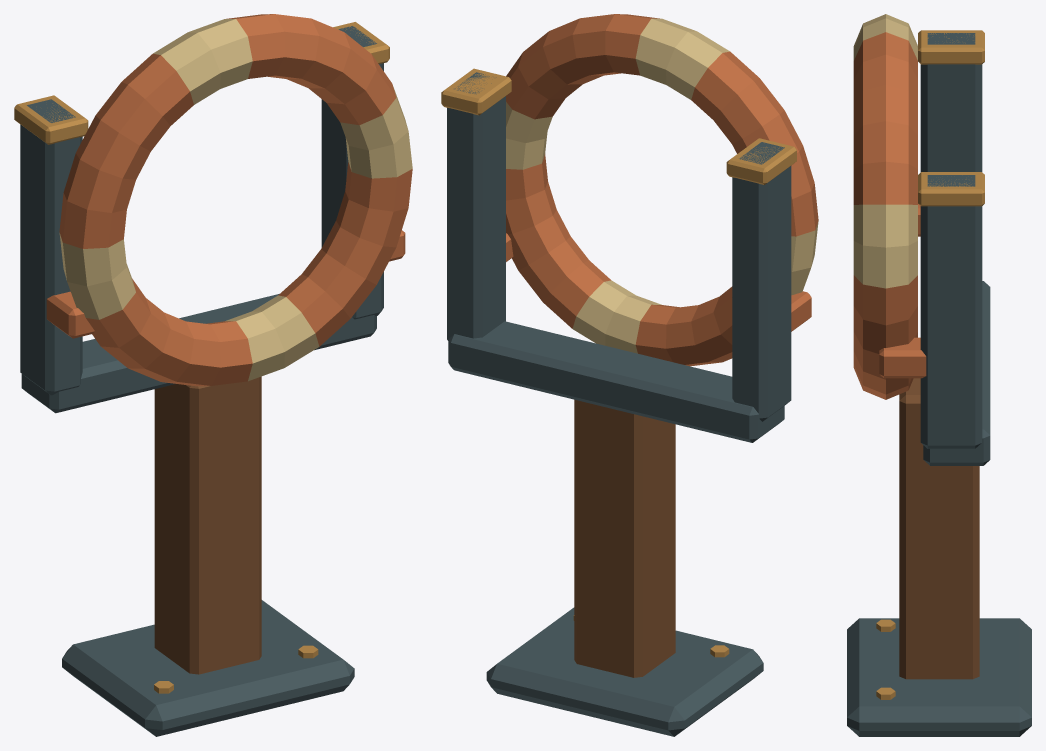
The model's file is w3a-spear-ring.glb.
3 views of the same model, side by side, from view 1: azimuth 30°, elevation 25°; view 2: azimuth 150°, elevation 25°; view 3: azimuth 270°, elevation 25° (orthographic). The views are drawn at different scales.
Parts seen in each view (by area): view 1: Spear ring target; view 2: Spear ring target; view 3: Spear ring target.
Boxes of the visible parts, bbox=[...] form: Spear ring target: bbox=[14, 14, 412, 736]; Spear ring target: bbox=[441, 14, 818, 736]; Spear ring target: bbox=[847, 14, 1031, 736].
Size of the model in its own units: 1.44 by 2.72 by 0.69.
